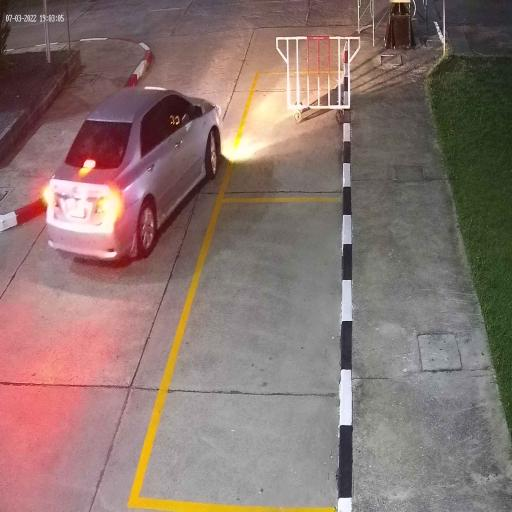car: (46, 85, 222, 264)
